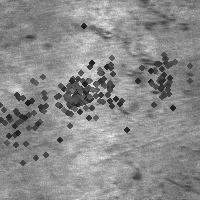rolled-in_scale: (35, 29, 151, 145), (67, 3, 175, 113), (0, 54, 81, 172), (120, 39, 192, 111), (48, 69, 98, 119), (130, 164, 200, 194)
